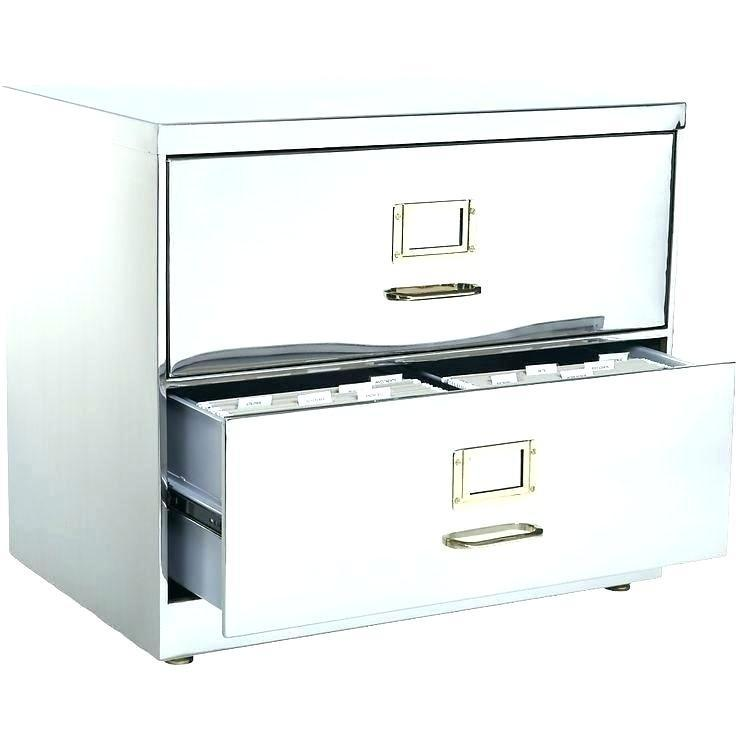cabinet_door: (232, 408, 736, 603), (168, 145, 674, 337)
handle: (440, 515, 549, 555), (382, 275, 484, 310)
